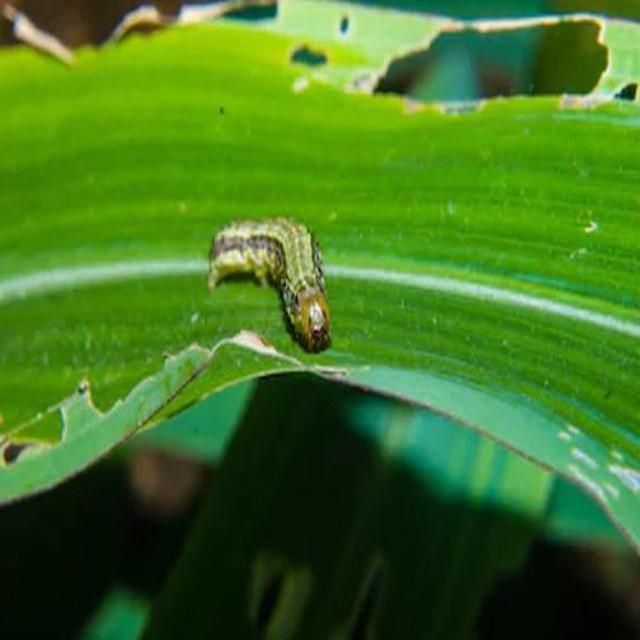Plaga: (207, 215, 337, 355)
